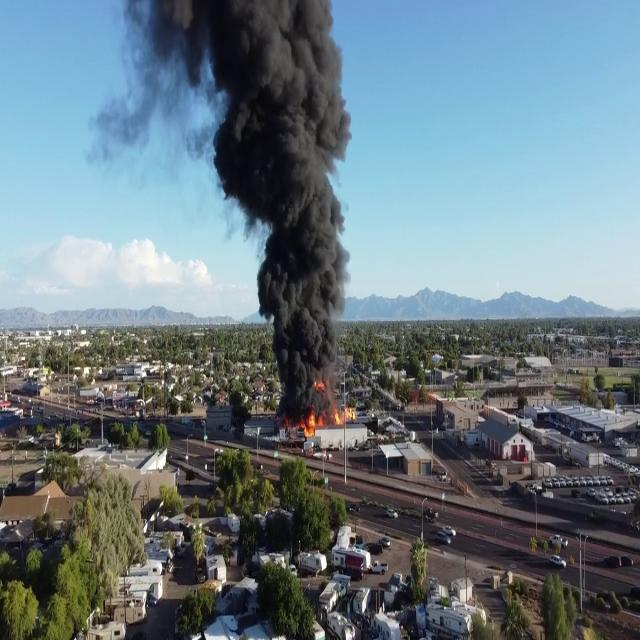Fire: (300, 399, 358, 434)
Smoke: (188, 0, 358, 402)
